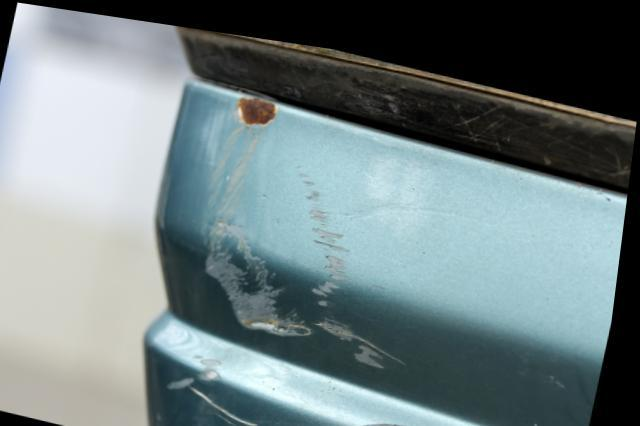scratch: (203, 112, 412, 360), (174, 347, 280, 426), (355, 403, 490, 426)
